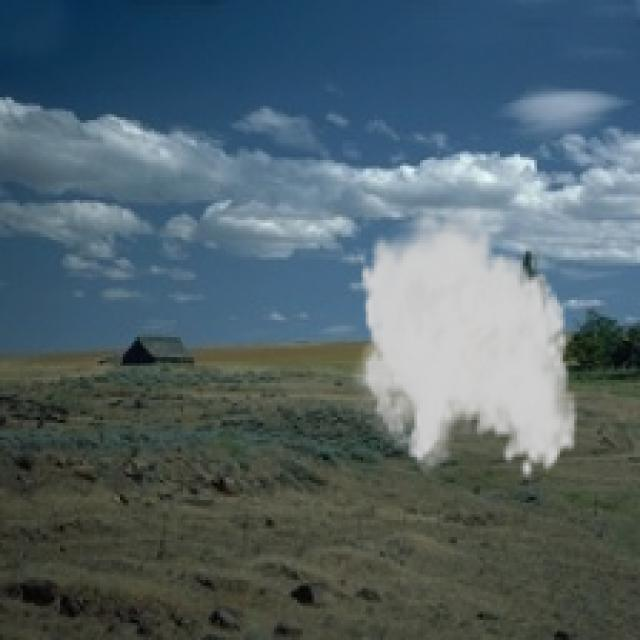Smoke: (346, 197, 580, 480)
